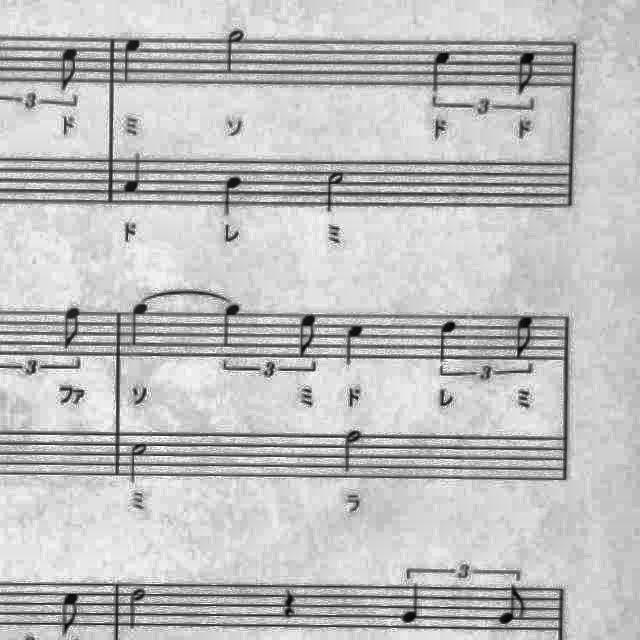Eighth-note: (54, 43, 88, 97), (493, 582, 531, 630), (512, 44, 544, 100), (56, 588, 88, 640), (58, 302, 90, 354), (291, 308, 323, 360), (510, 310, 542, 362)
Half-note: (218, 22, 250, 78), (339, 425, 368, 479), (320, 164, 350, 216), (124, 582, 152, 634), (126, 437, 154, 488)
Quarter-note: (340, 317, 372, 373), (118, 33, 150, 87), (124, 298, 156, 352), (434, 315, 466, 367), (424, 46, 456, 98), (218, 298, 248, 350), (397, 580, 429, 628), (121, 151, 151, 201), (218, 173, 248, 223)
Quarter-rest: (276, 580, 304, 622)
